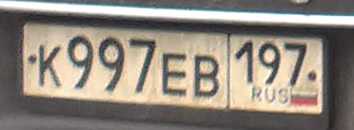character: (94, 34, 127, 95), (128, 35, 159, 98), (64, 33, 95, 90), (189, 51, 221, 103), (159, 52, 189, 101), (256, 38, 283, 86), (36, 42, 64, 88), (283, 40, 310, 87), (234, 39, 256, 87)
